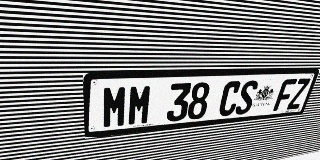3: (166, 83, 192, 122)
8: (186, 82, 212, 120)
C: (217, 81, 243, 117)
F: (273, 79, 297, 111)
M: (102, 85, 128, 129), (127, 84, 153, 126)
S: (234, 80, 259, 115)
Z: (286, 78, 311, 110)
